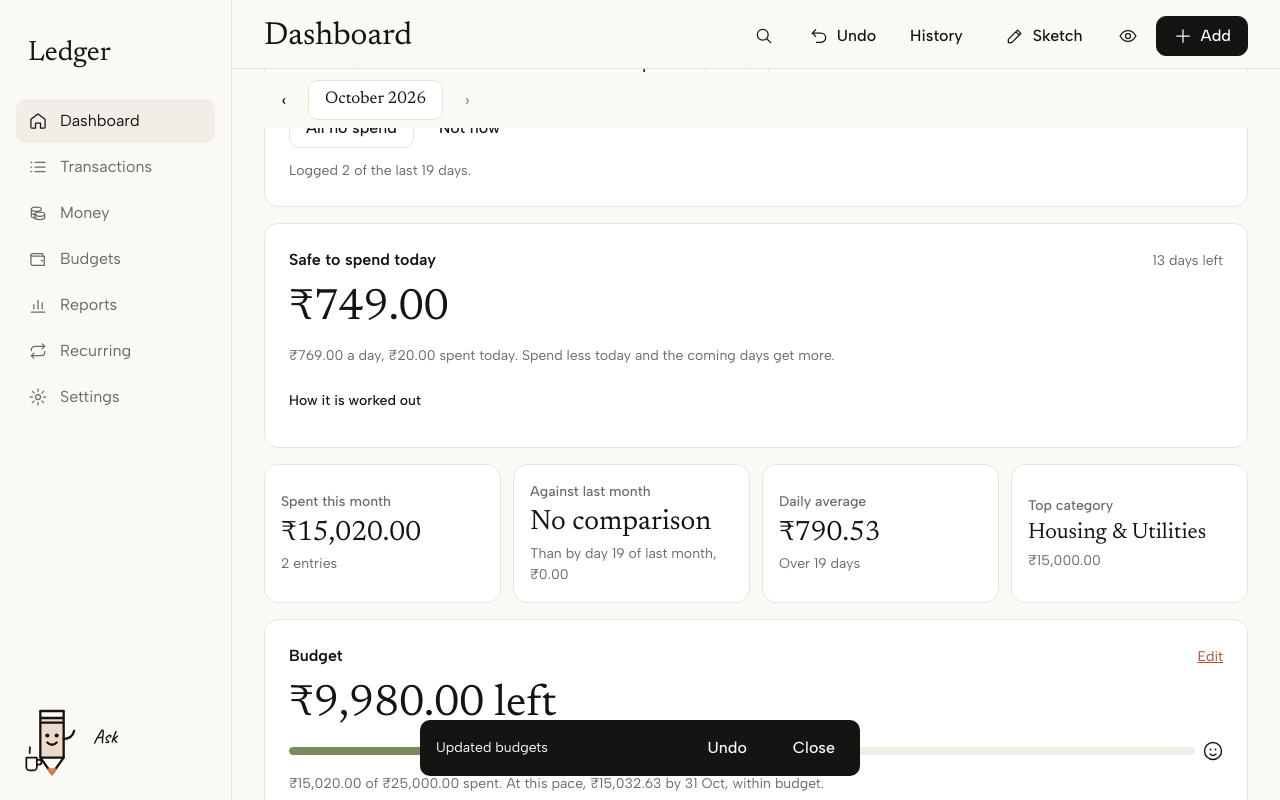
safe to spend on the Dashboard › shares the month’s budget over the days left and explains the sum
(page scrolled)
Expected: the heading "Dashboard" is shown, 264,20 -> 412,52
Expected: the element with test id "safe-today" reads "₹749.00", 289,287 -> 449,331
Click the heading "How it is worked out" at (355, 400), box 289,392 -> 421,409
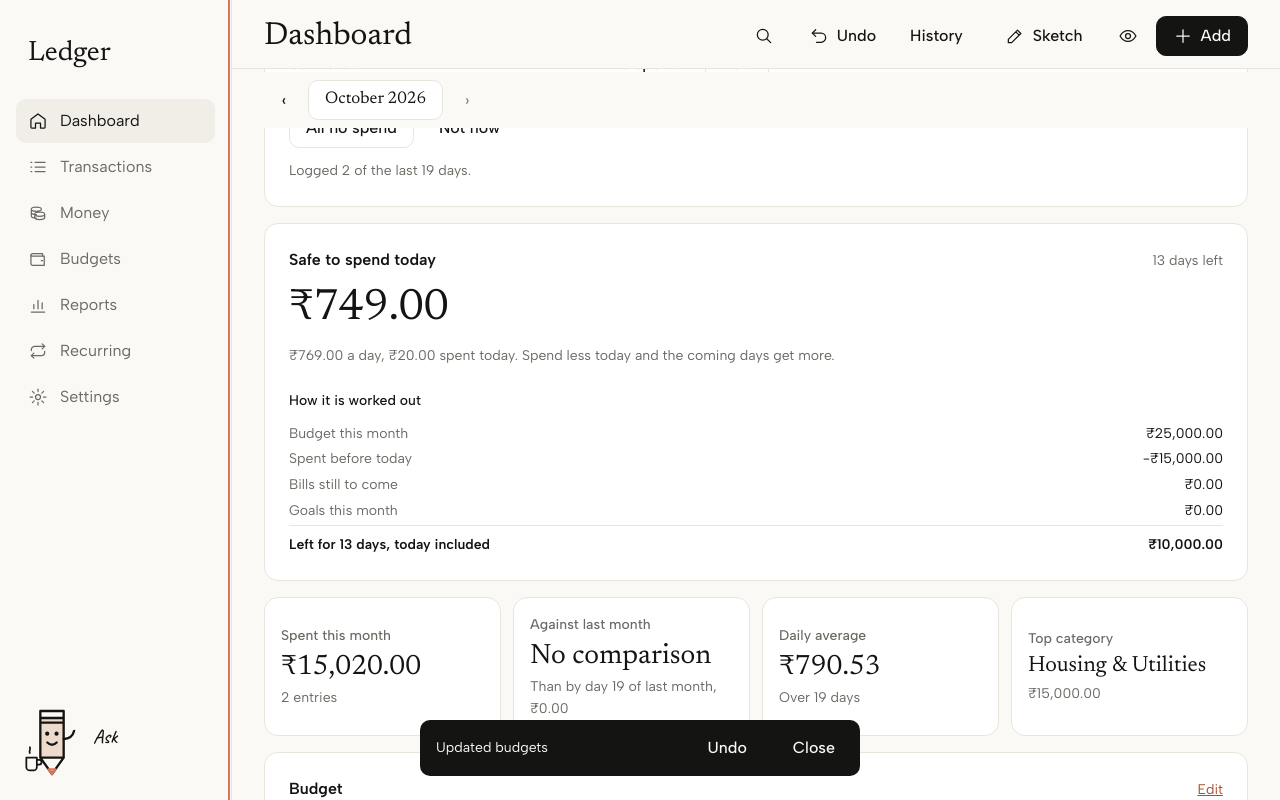
Expected: the element showing "₹10,000.00" is shown, 1148,534 -> 1223,556
